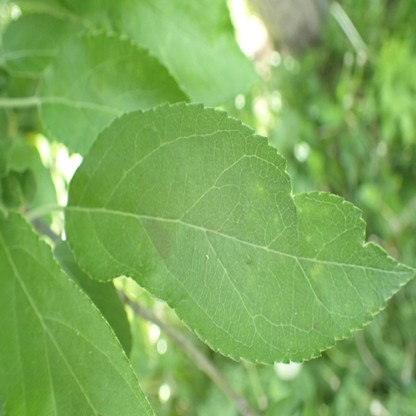scab: (145, 220, 174, 258), (310, 263, 322, 277), (94, 79, 103, 94), (315, 322, 320, 331)
